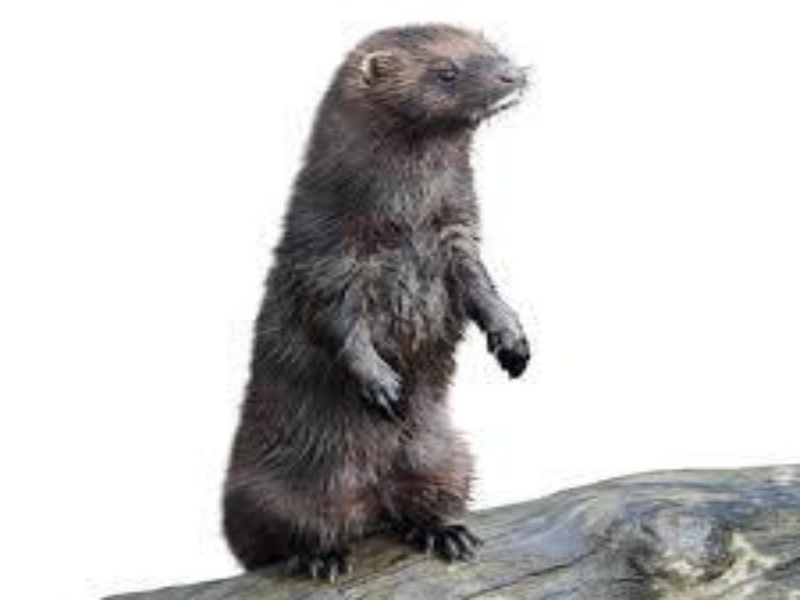minkish: (218, 20, 536, 587)
